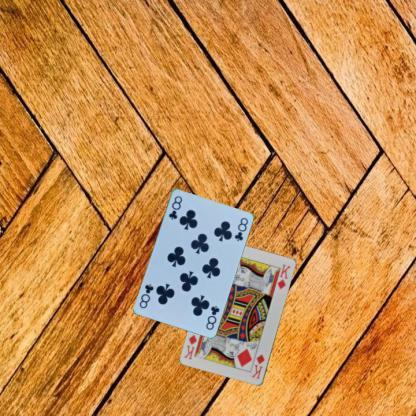8c: (203, 302, 221, 332), (166, 193, 184, 221)
Kd: (248, 352, 266, 380)
